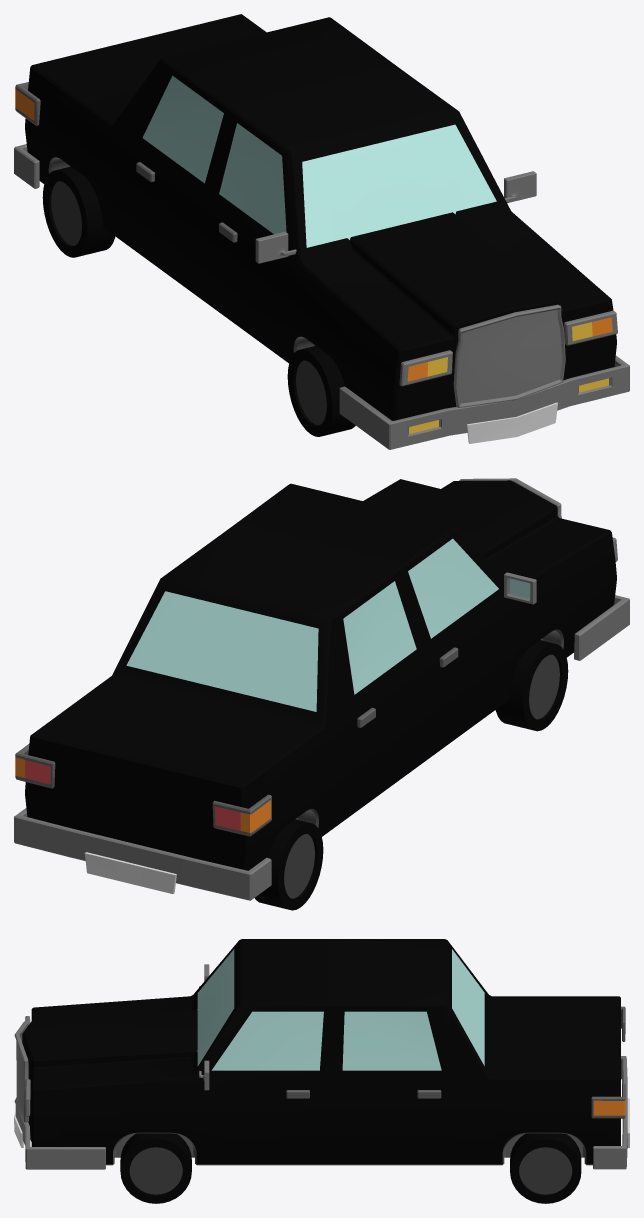
The model's file is bBart.fbx.
3 views of the same model, one above another, from view 1: azimuth 30°, elevation 25°; view 2: azimuth 150°, elevation 25°; view 3: azimuth 270°, elevation 25° (orthographic). The views are drawn at different scales.
Parts seen in each view (by area): view 1: blackranger; view 2: blackranger; view 3: blackranger.
Boxes of the visible parts, x1,y1,x2,y2 form: blackranger: (14, 14, 629, 449); blackranger: (14, 478, 629, 910); blackranger: (14, 939, 629, 1203).
Size of the model in its own units: 264 by 213 by 636.
